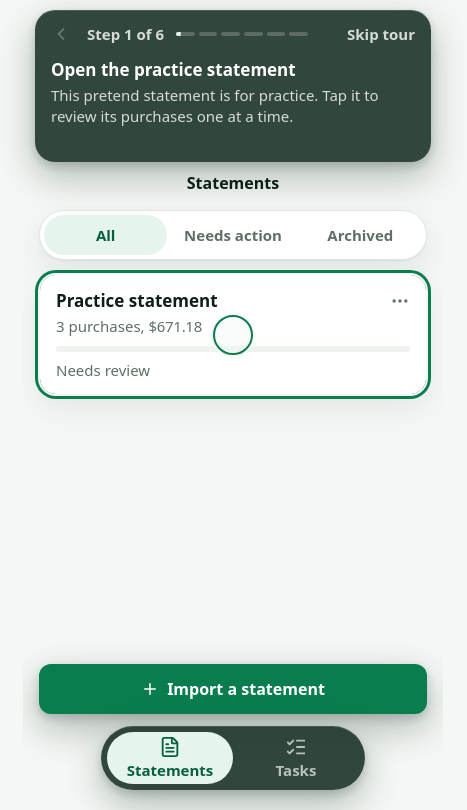
Test: App › Tour › skips to an empty Statements screen and remembers the tour was seen
The width and height of the screenshot is (467, 810).
Expected: the element "tour" is shown, x1=23 y1=0 x2=443 y2=162
Click the button "Skip tour" at coordinates (381, 34), box x1=339 y1=12 x2=423 y2=56
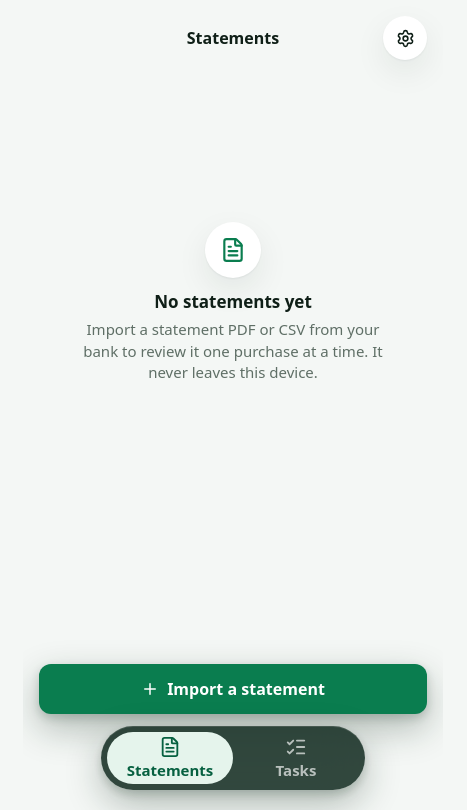
Now the heading "No statements yet" is shown, box x1=154 y1=290 x2=312 y2=313
